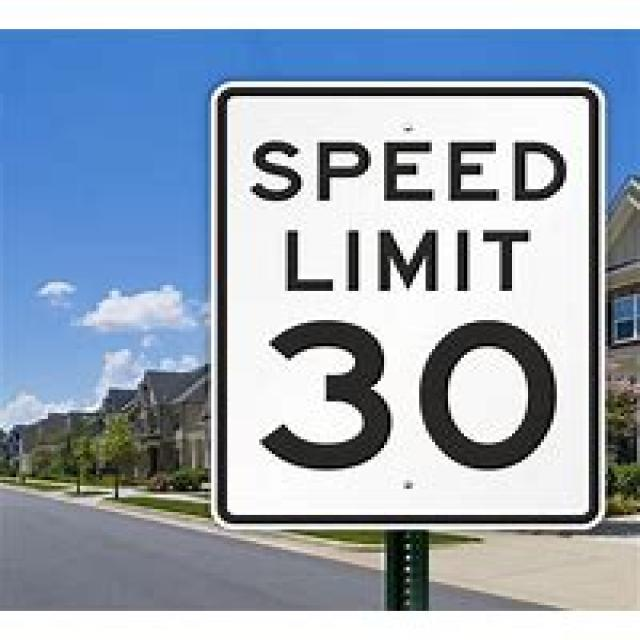speedLimit30: (204, 82, 602, 538)
